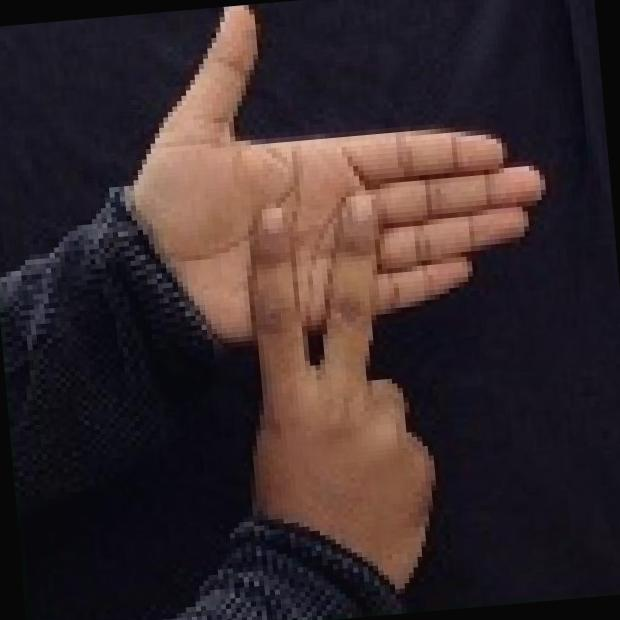M: (120, 0, 590, 620)
